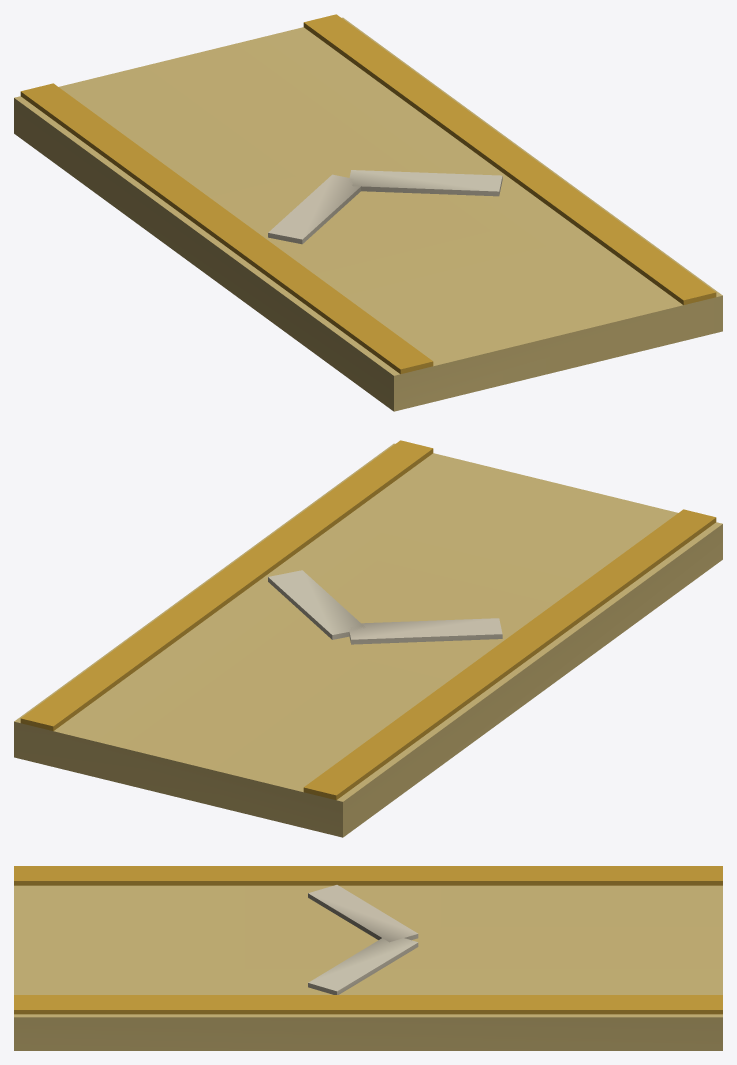
File: taxi_lane_low.glb
3 renders of one model, top to bottom at view 1: azimuth 30°, elevation 25°; view 2: azimuth 150°, elevation 25°; view 3: azimuth 270°, elevation 25°, orthographic. The views are drawn at different scales.
Parts seen in each view (by area): view 1: taxi_lane; view 2: taxi_lane; view 3: taxi_lane.
Boxes of the visible parts, x1=… form: taxi_lane: x1=14, y1=14, x2=722, y2=411; taxi_lane: x1=14, y1=440, x2=722, y2=837; taxi_lane: x1=14, y1=866, x2=722, y2=1050.
Bounding box in the file's own units: 0.5 × 0.059 × 1.
